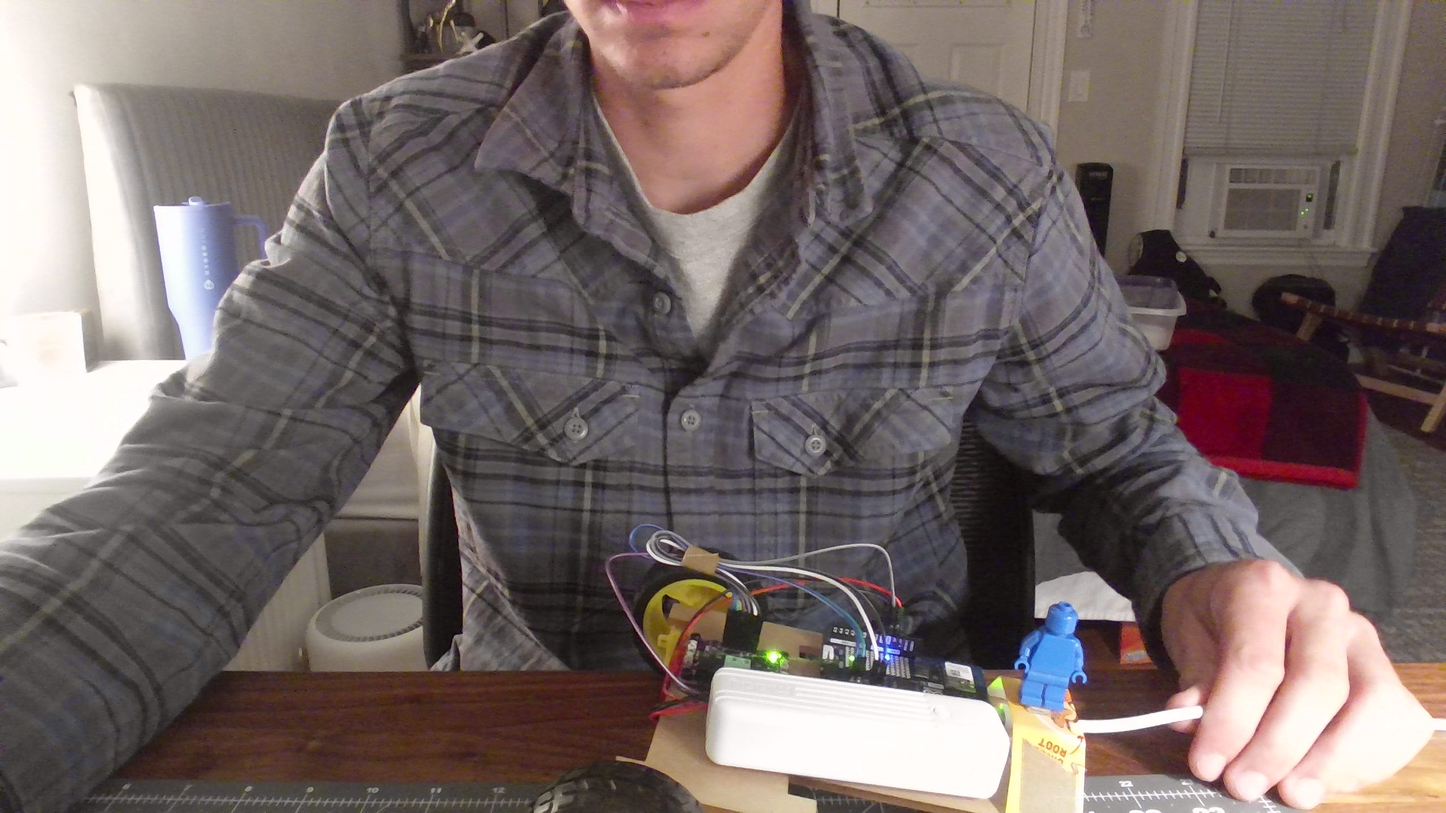Training-dataset-2: (1007, 587, 1100, 714)
